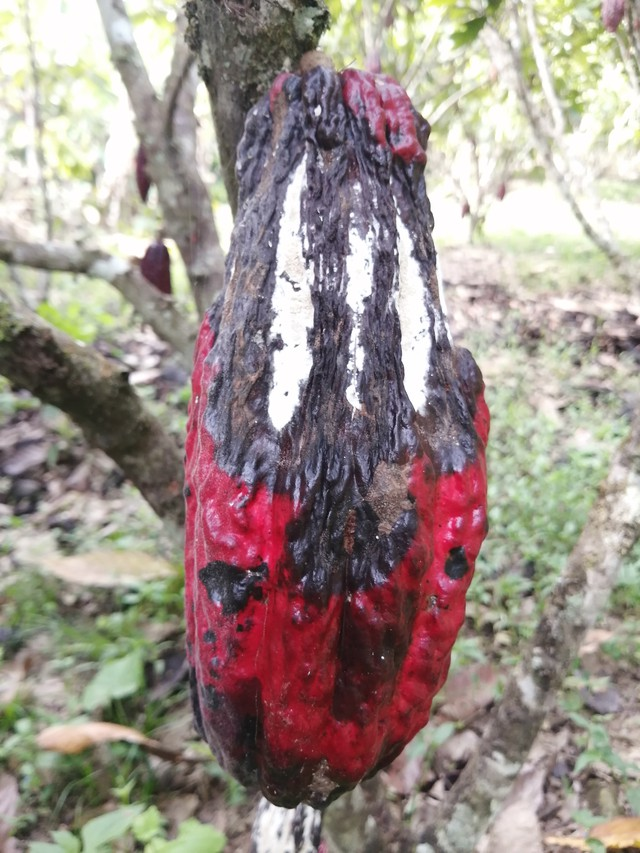moniliophthora roreri: (158, 51, 511, 831)
